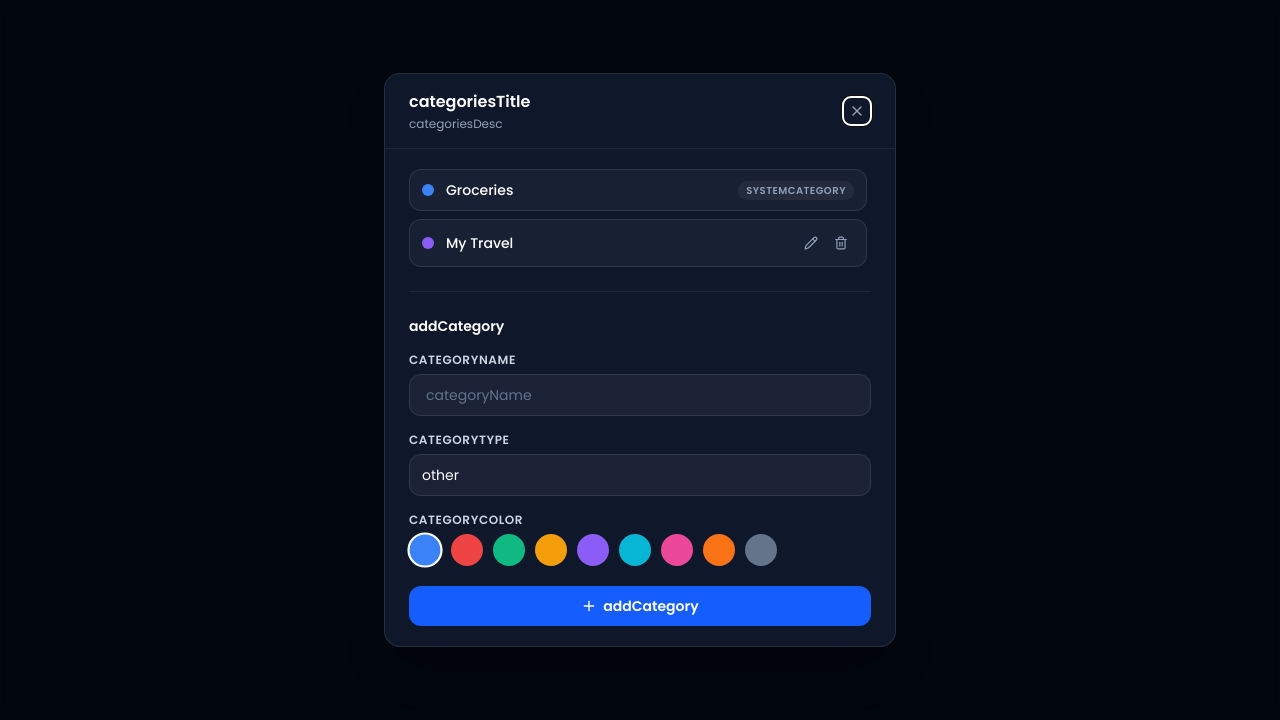
Test case: CategoryManagerModal › should not submit when the name is empty
What coordinates should you click on to do the following:
click the button "addCategory"
I would click on:
 (640, 606)
Its box is [409,586,871,626].
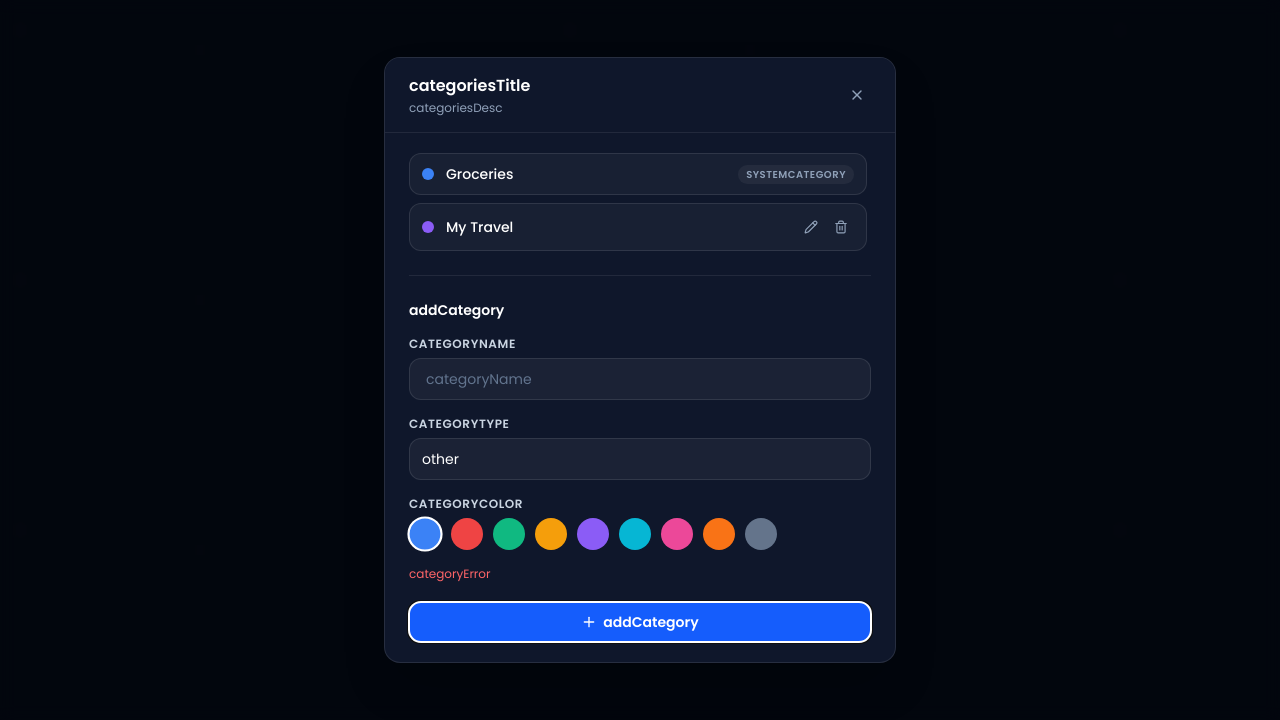
Now the message reads "categoryError", box [409,565,490,582]
